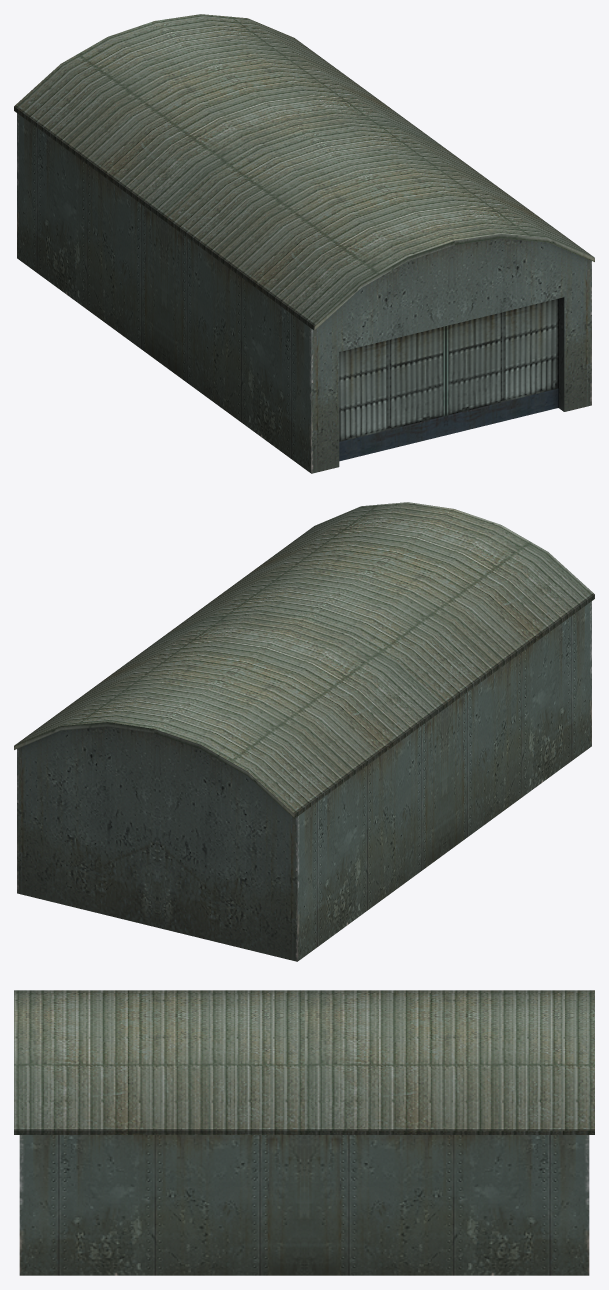
The model's file is warehouse_03.FBX.
3 renders of one model, top to bottom at view 1: azimuth 30°, elevation 25°; view 2: azimuth 150°, elevation 25°; view 3: azimuth 270°, elevation 25°, orthographic. The views are drawn at different scales.
Visible parts, largest first — view 1: 02; view 2: 02; view 3: 02.
Boxes of the visible parts, box(x1,y1,x2,y2) form: 02: box(14, 14, 594, 473); 02: box(14, 502, 594, 961); 02: box(14, 990, 594, 1275).
Bounding box in the file's own units: 655 × 1214 × 448.
1 material, 1 textured.
